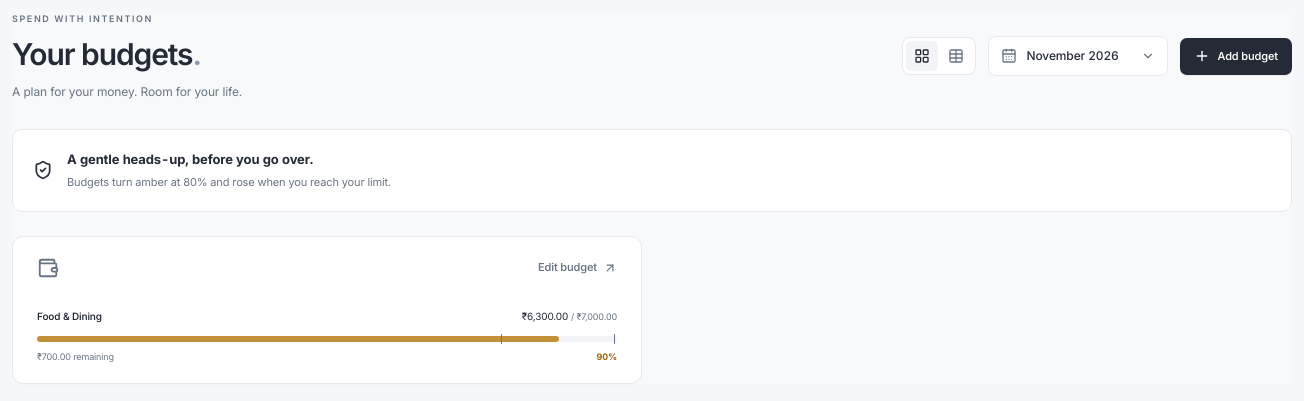
BudgetsPage › switches between grid and table views
Later steps or results of the test are not shown.
Check: the progress indicator named "Food & Dining" is shown, box [37, 336, 617, 342]
Click the button named "Table view".
click(956, 56)  # box [940, 41, 972, 71]
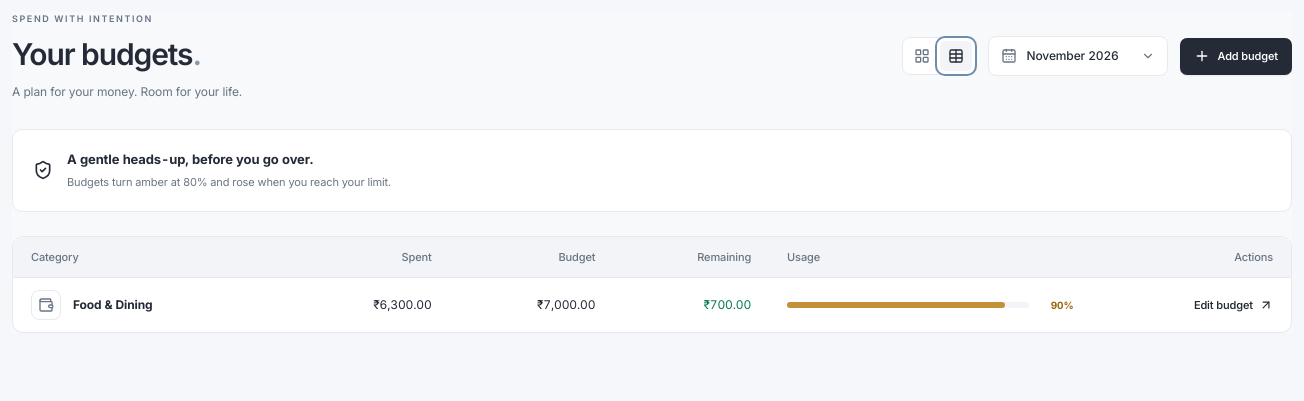
Check: the button "Edit budget" is shown, box [1194, 297, 1273, 314]
Check: the column heading "Spent" is shown, box [286, 236, 450, 278]
